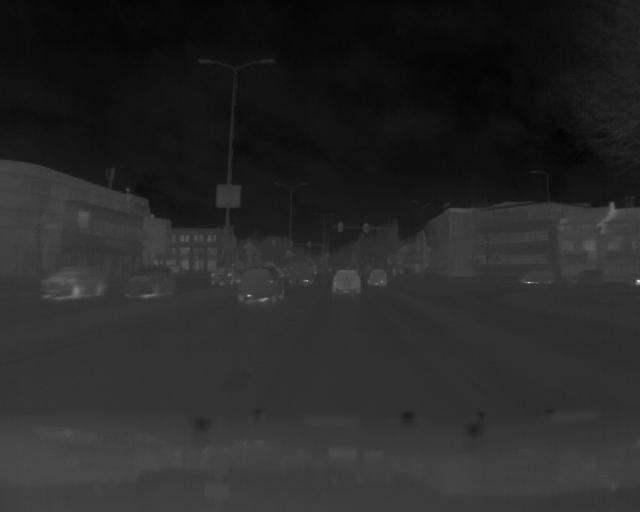car: (34, 263, 112, 300), (121, 265, 180, 301), (239, 266, 287, 305), (330, 267, 364, 296), (367, 265, 389, 287)
